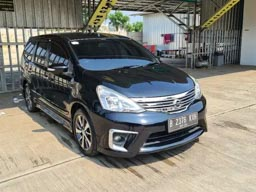plat: (170, 114, 196, 133)
